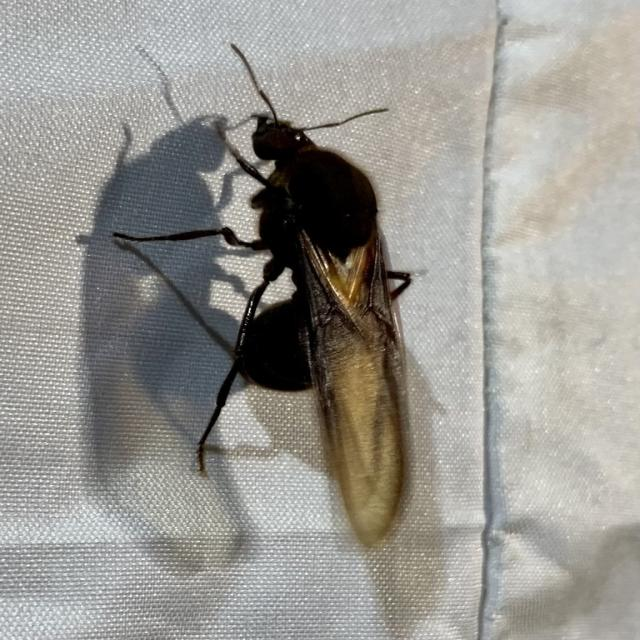Alive-Female-Alate: (108, 41, 414, 551)
